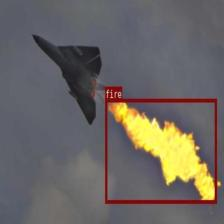fire: (105, 98, 216, 203)
